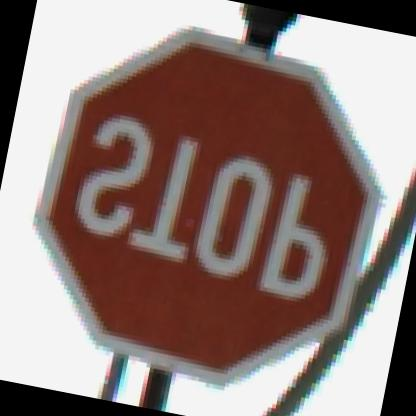stop: (0, 0, 415, 409)
